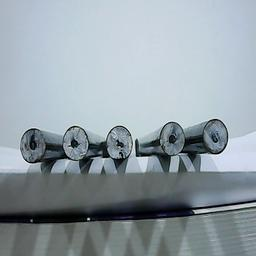pen: (19, 126, 48, 164), (201, 117, 230, 155), (159, 120, 188, 158), (105, 123, 134, 161), (61, 124, 90, 162)
